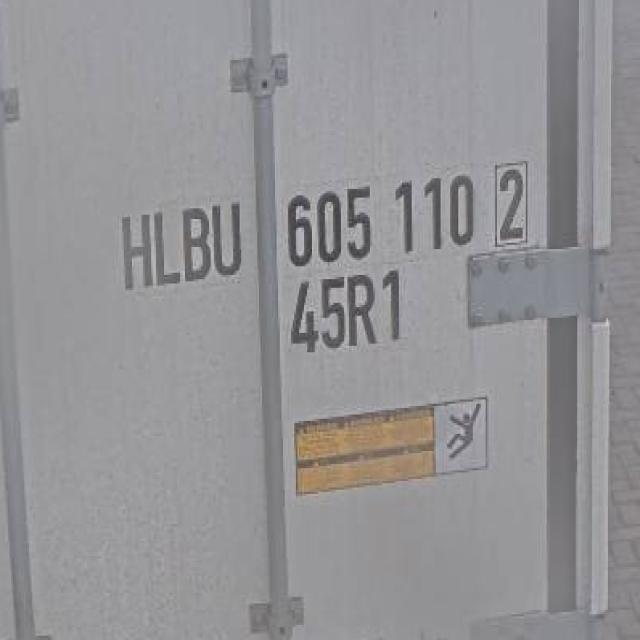dv: (487, 152, 536, 250)
owner: (113, 188, 245, 299)
serial: (274, 150, 478, 270)
size: (281, 268, 409, 363)
